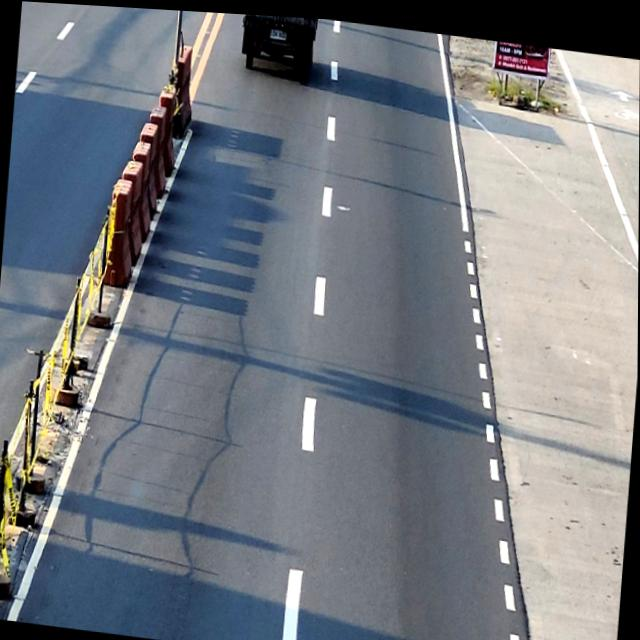License-Plate: (269, 25, 286, 37)
Truck: (239, 11, 317, 76)
